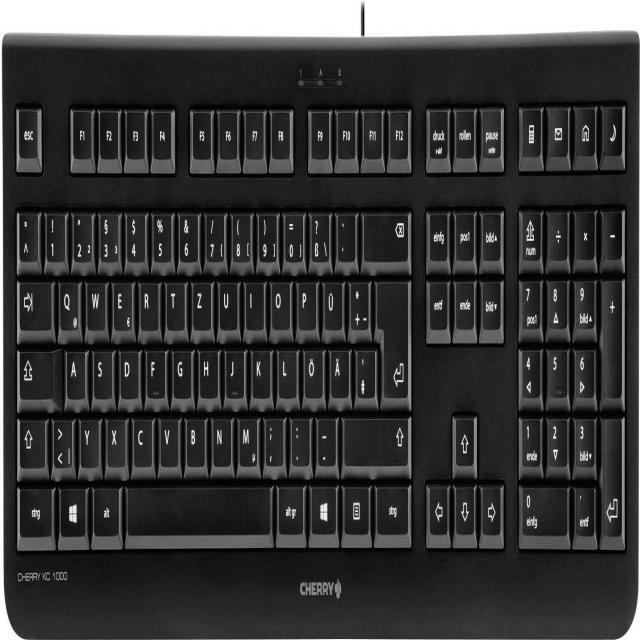0: (282, 207, 304, 265)
1: (44, 208, 65, 264)
2: (72, 208, 93, 264)
3: (98, 207, 119, 265)
4: (125, 208, 145, 264)
5: (151, 206, 172, 265)
6: (177, 207, 199, 265)
7: (204, 208, 225, 264)
8: (230, 208, 251, 266)
9: (256, 208, 277, 264)
a: (65, 346, 85, 398)
accent: (335, 208, 355, 262)
ae: (329, 344, 349, 396)
alt-left: (92, 481, 120, 538)
altgr-right: (276, 479, 304, 537)
b: (184, 410, 204, 466)
c: (131, 411, 152, 467)
caret: (16, 206, 38, 262)
comma: (263, 411, 283, 468)
d: (118, 345, 138, 397)
del: (361, 207, 410, 265)
e: (111, 275, 132, 331)
enter: (373, 273, 410, 404)
f: (145, 345, 165, 397)
g: (171, 344, 191, 396)
h: (197, 344, 218, 396)
hash: (355, 344, 375, 398)
i: (245, 281, 264, 335)
j: (224, 345, 243, 397)
k: (250, 344, 271, 397)
keyboard: (2, 26, 639, 638)
l: (277, 344, 297, 397)
less: (51, 412, 72, 468)
m: (236, 411, 257, 467)
minus: (316, 412, 335, 465)
n: (210, 411, 231, 466)
o: (270, 280, 291, 334)
oe: (303, 344, 323, 397)
p: (296, 276, 316, 329)
plus: (348, 274, 368, 330)
point: (289, 411, 309, 466)
q: (57, 275, 79, 331)
r: (138, 276, 158, 330)
s: (92, 346, 111, 398)
shift-left: (16, 414, 45, 468)
shift-lock: (16, 345, 61, 405)
shift-right: (342, 413, 409, 466)
space: (124, 479, 273, 543)
ss: (308, 207, 329, 264)
strg-left: (16, 481, 53, 541)
strg-right: (374, 481, 411, 538)
t: (165, 275, 184, 328)
tab: (16, 276, 52, 331)
u: (219, 280, 239, 334)
ue: (322, 275, 342, 329)
v: (158, 410, 178, 465)
w: (85, 274, 106, 329)
x: (105, 412, 126, 467)
y: (78, 413, 98, 467)
z: (191, 276, 211, 328)
